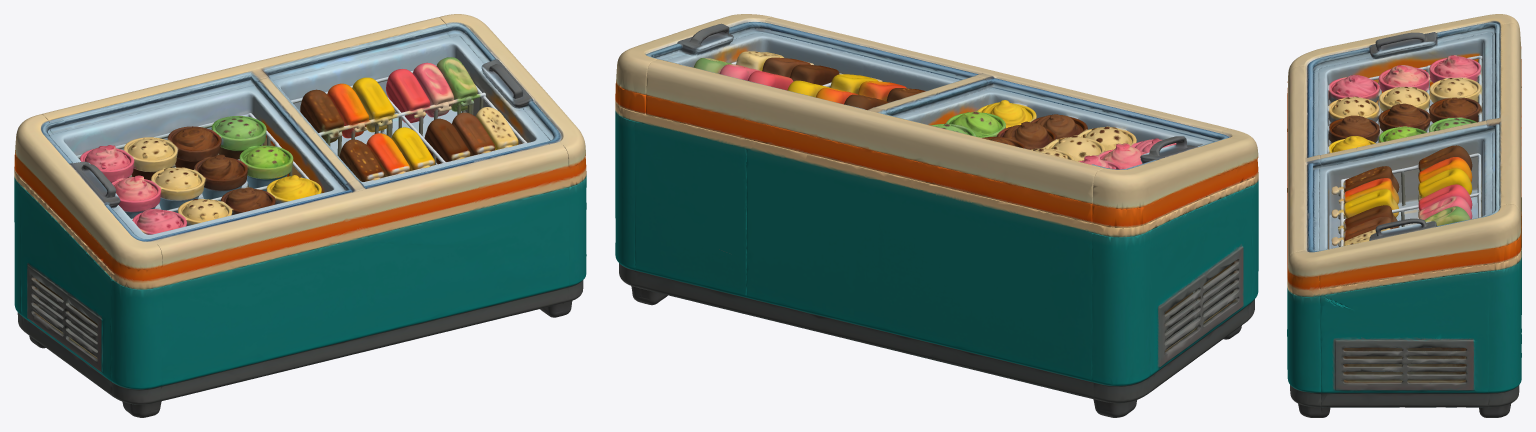
File: IceCreamFreezer.glb
3 renders of one model, left to right at view 1: azimuth 30°, elevation 25°; view 2: azimuth 150°, elevation 25°; view 3: azimuth 270°, elevation 25°, orthographic. The views are drawn at different scales.
Visible parts, largest first — view 1: tripo_node_44c81169-6fd2-4b09-bf8e-e9fd6c2a5bda; view 2: tripo_node_44c81169-6fd2-4b09-bf8e-e9fd6c2a5bda; view 3: tripo_node_44c81169-6fd2-4b09-bf8e-e9fd6c2a5bda.
Boxes of the visible parts, x1,y1,x2,y2 form: tripo_node_44c81169-6fd2-4b09-bf8e-e9fd6c2a5bda: (14,14,586,417); tripo_node_44c81169-6fd2-4b09-bf8e-e9fd6c2a5bda: (615,14,1258,417); tripo_node_44c81169-6fd2-4b09-bf8e-e9fd6c2a5bda: (1287,14,1521,417).
Size of the model in its own units: 0.9806 by 0.4369 by 0.4516.
1 material, 1 textured.
